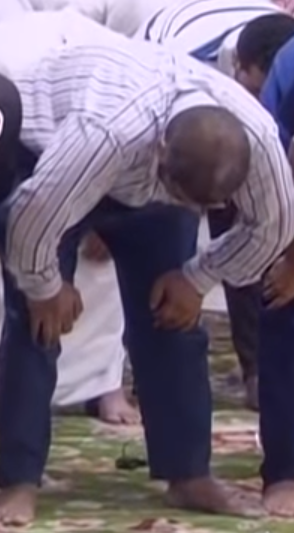ruku: (8, 27, 294, 516)
